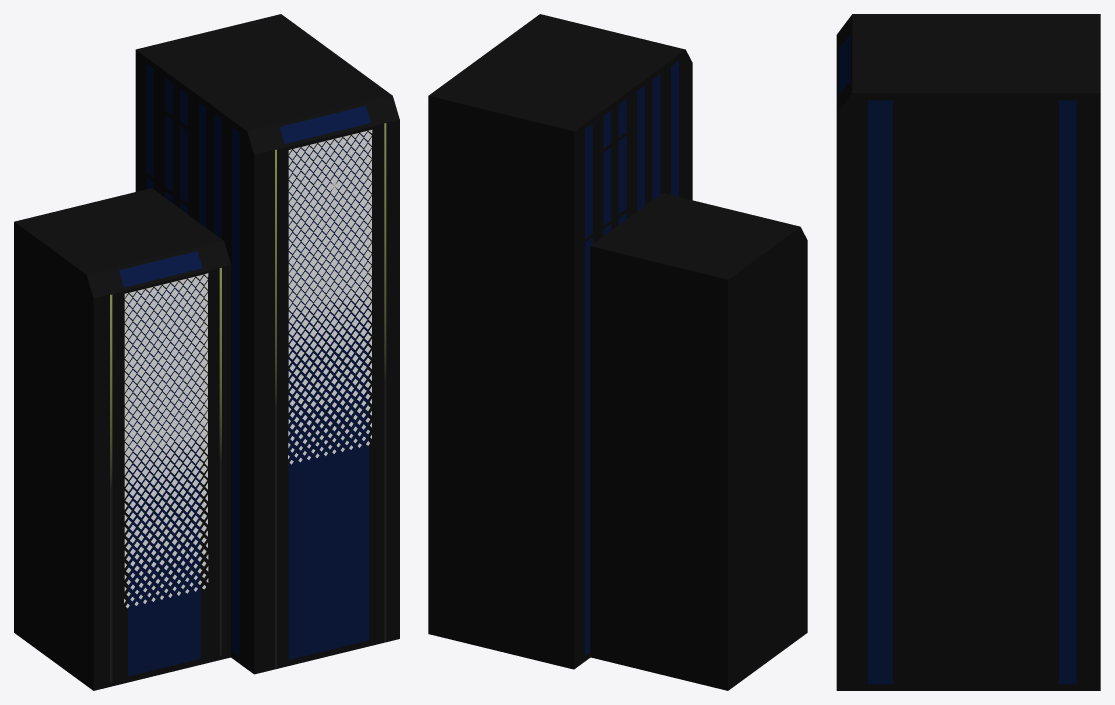
The model's file is Building_007_2st_L1.fbx.
3 views of the same model, side by side, from view 1: azimuth 30°, elevation 25°; view 2: azimuth 150°, elevation 25°; view 3: azimuth 270°, elevation 25° (orthographic). The views are drawn at different scales.
Parts seen in each view (by area): view 1: Building_007_2st_L1; view 2: Building_007_2st_L1; view 3: Building_007_2st_L1.
Boxes of the visible parts, x1=… form: Building_007_2st_L1: x1=14, y1=14, x2=399, y2=690; Building_007_2st_L1: x1=428, y1=14, x2=807, y2=690; Building_007_2st_L1: x1=836, y1=14, x2=1100, y2=690.
Size of the model in its own units: 47.41 by 85.9 by 34.38.
